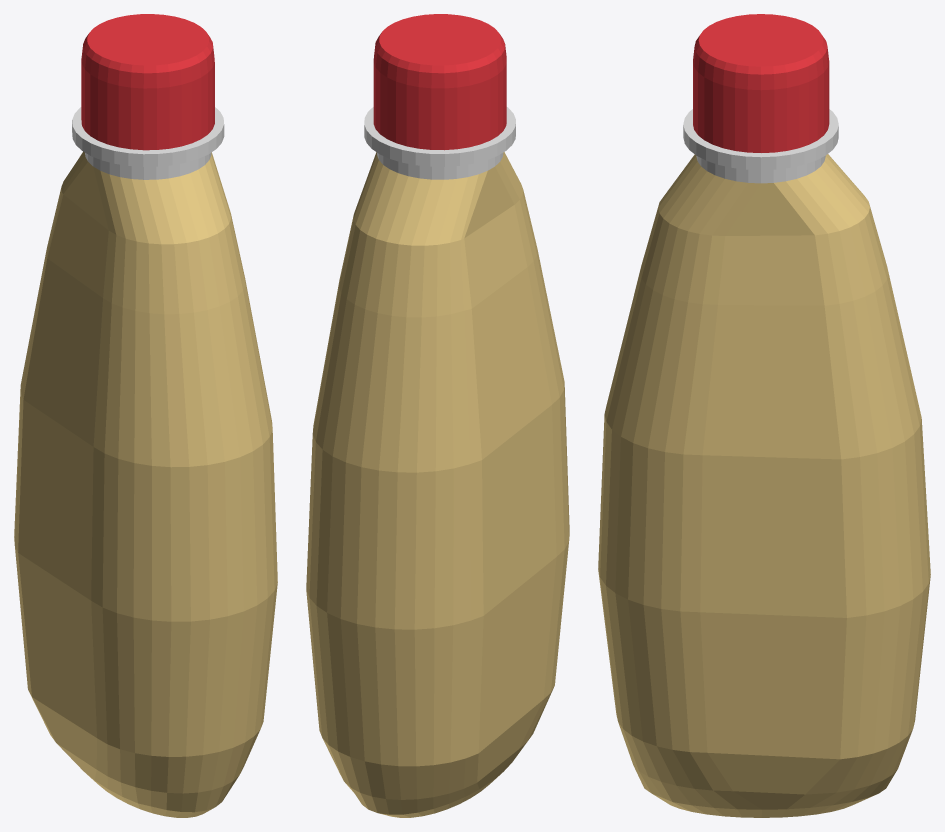
File: mayo.fbx
3 renders of one model, left to right at view 1: azimuth 30°, elevation 25°; view 2: azimuth 150°, elevation 25°; view 3: azimuth 270°, elevation 25°, orthographic. The views are drawn at different scales.
Parts seen in each view (by area): view 1: 円柱.002; view 2: 円柱.002; view 3: 円柱.002.
Boxes of the visible parts, <box> form: 円柱.002: <box>14,14,277,817</box>; 円柱.002: <box>306,14,569,817</box>; 円柱.002: <box>598,14,930,817</box>.
Bounding box in the file's own units: 104 × 428 × 169.
